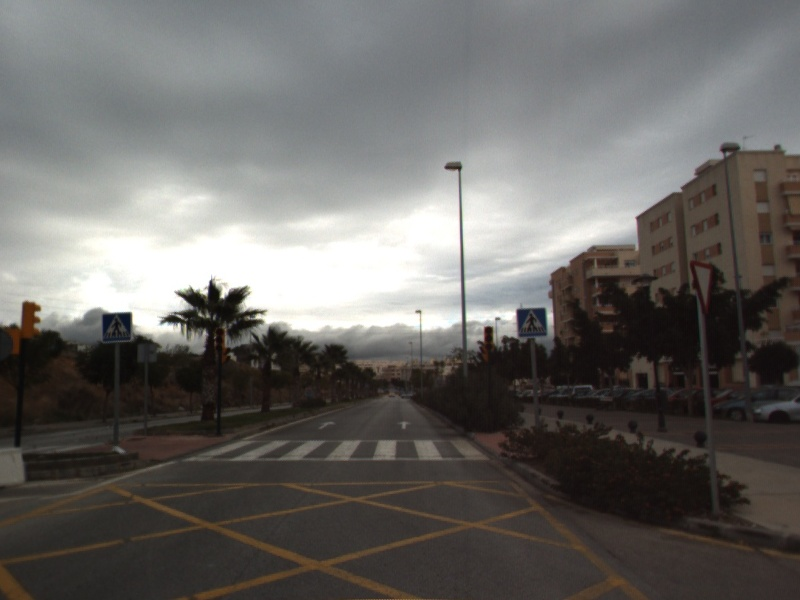STRAIGHT: (316, 419, 338, 431), (395, 418, 414, 431)
